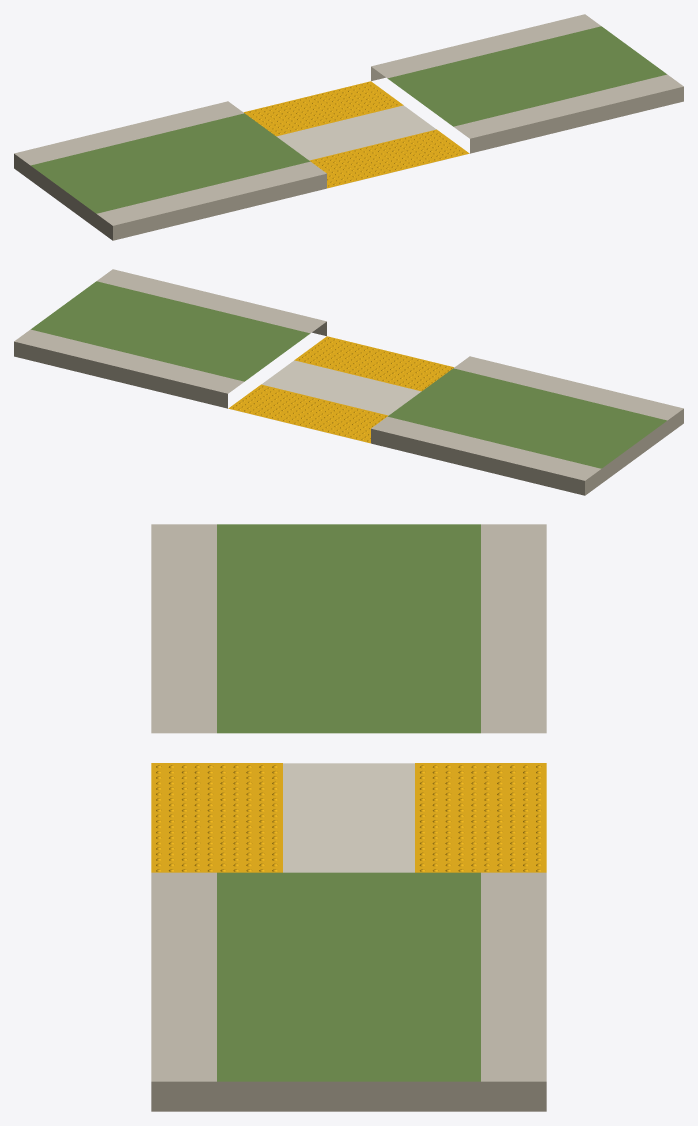
The model's file is ramp-422h.glb.
3 views of the same model, one above another, from view 1: azimuth 30°, elevation 25°; view 2: azimuth 150°, elevation 25°; view 3: azimuth 270°, elevation 25° (orthographic). The views are drawn at different scales.
Visible parts, largest first — view 1: Seattle Type 422H: Island cut-through; view 2: Seattle Type 422H: Island cut-through; view 3: Seattle Type 422H: Island cut-through.
Boxes of the visible parts, <box> form: Seattle Type 422H: Island cut-through: <box>14,14,683,240</box>; Seattle Type 422H: Island cut-through: <box>14,269,683,495</box>; Seattle Type 422H: Island cut-through: <box>151,524,546,1111</box>.
Bounding box in the file's own units: 6.1 × 0.1524 × 1.83.
